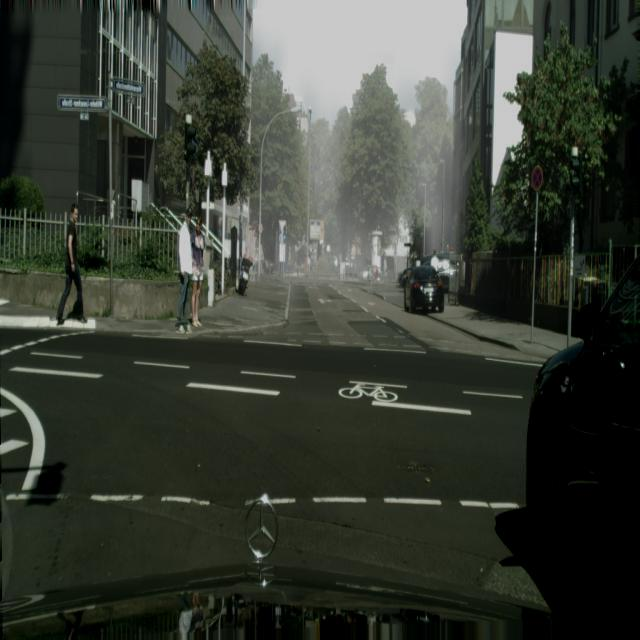bus: (237, 255, 252, 296)
person: (56, 202, 87, 326), (175, 210, 194, 334), (190, 216, 206, 330)
truck: (525, 254, 640, 604), (403, 263, 444, 314)
